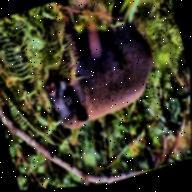boar: (28, 0, 181, 155)
